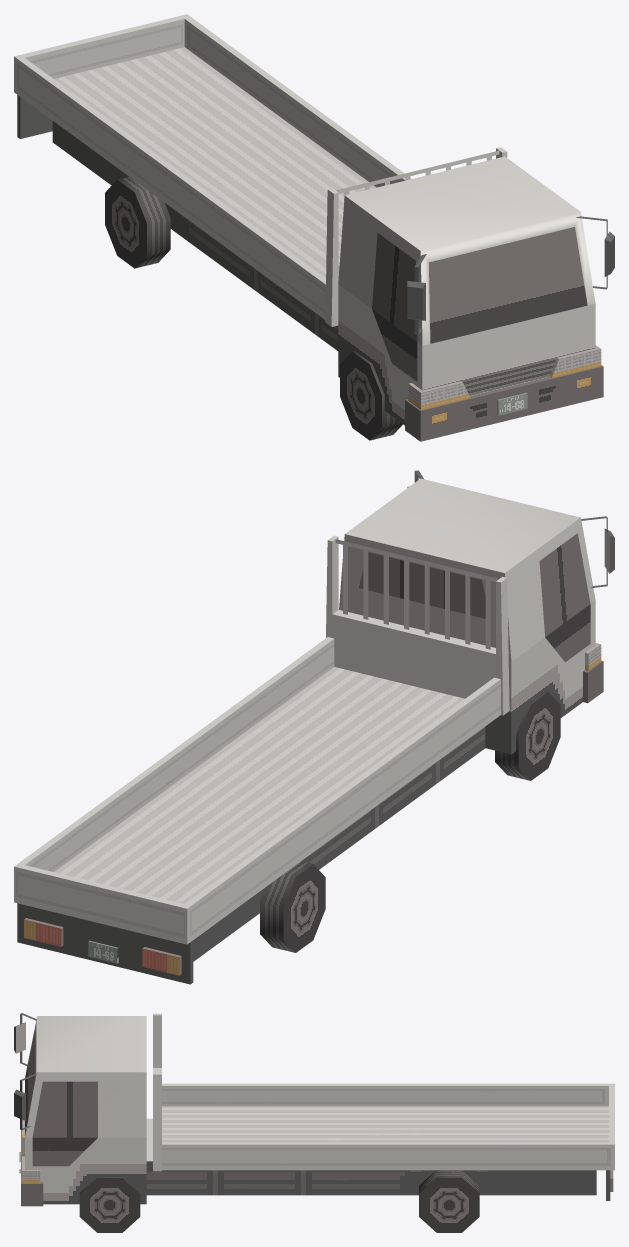
File: 0135_Truck.glb
The picture shows the model from 3 angles, top to bottom: view 1: azimuth 30°, elevation 25°; view 2: azimuth 150°, elevation 25°; view 3: azimuth 270°, elevation 25°; orthographic projection. The views are drawn at different scales.
Visible parts, largest first — view 1: part_0, part_2, part_1; view 2: part_0, part_2, part_1; view 3: part_0, part_2, part_1.
Part boxes in pixels (x1=…): part_0: x1=14, y1=14, x2=614, y2=441; part_2: x1=105, y1=176, x2=170, y2=268; part_1: x1=340, y1=351, x2=402, y2=440; part_0: x1=14, y1=470, x2=614, y2=984; part_2: x1=260, y1=861, x2=325, y2=952; part_1: x1=495, y1=691, x2=560, y2=780; part_0: x1=14, y1=1013, x2=614, y2=1206; part_2: x1=419, y1=1170, x2=479, y2=1232; part_1: x1=79, y1=1177, x2=140, y2=1232.
Bounding box in the file's own units: 2.35 × 2.35 × 8.15.
3 materials, 3 textured.
